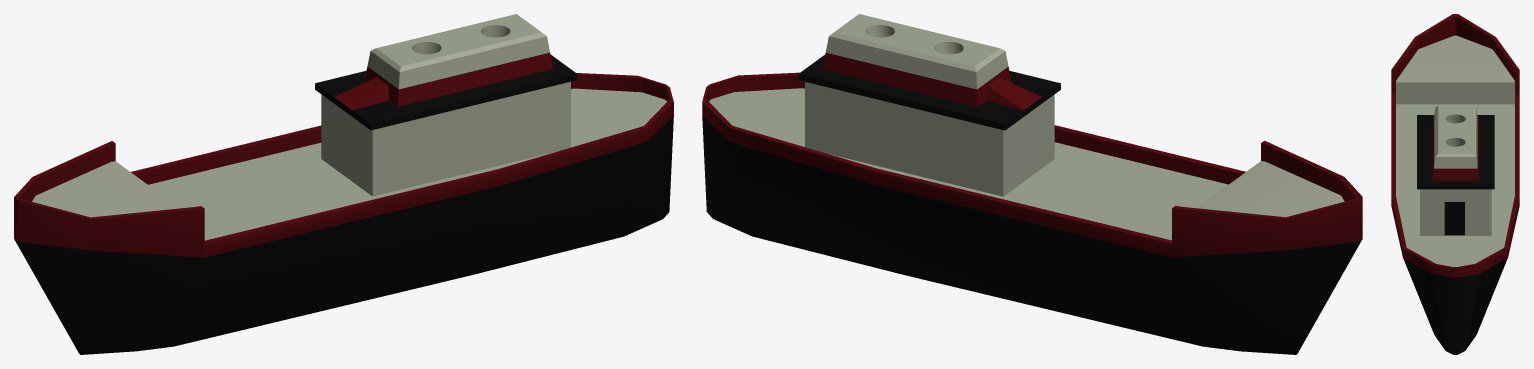
File: Hull.fbx
The picture shows the model from 3 angles, left to right: view 1: azimuth 30°, elevation 25°; view 2: azimuth 150°, elevation 25°; view 3: azimuth 270°, elevation 25°; orthographic projection. The views are drawn at different scales.
Visible parts, largest first — view 1: Hull; view 2: Hull; view 3: Hull.
Boxes of the visible parts, left/top/right/bottom form: Hull: left=14, top=14, right=673, bottom=354; Hull: left=702, top=14, right=1362, bottom=354; Hull: left=1391, top=14, right=1519, bottom=354.
Size of the model in its own units: 408 by 132 by 100.
